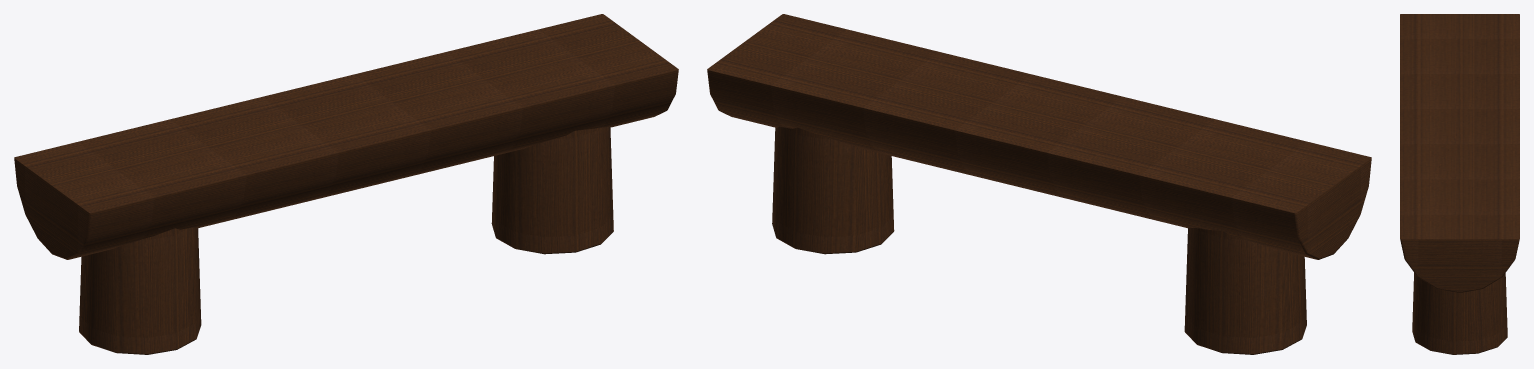
File: log-bench.glb
3 views of the same model, side by side, from view 1: azimuth 30°, elevation 25°; view 2: azimuth 150°, elevation 25°; view 3: azimuth 270°, elevation 25° (orthographic). The views are drawn at different scales.
Visible parts, largest first — view 1: split_log_seat, left_support_stump, right_support_stump; view 2: split_log_seat, left_support_stump, right_support_stump; view 3: split_log_seat, right_support_stump.
Boxes of the visible parts, x1,y1,x2,y2 form: split_log_seat: (14,14,678,259); left_support_stump: (79,227,201,354); right_support_stump: (491,127,613,254); split_log_seat: (707,14,1371,259); left_support_stump: (1184,227,1306,354); right_support_stump: (772,126,894,254); split_log_seat: (1400,14,1519,292); right_support_stump: (1412,272,1507,354).
Size of the model in its own units: 1.6 by 0.43 by 0.36.
1 material, 1 textured.
